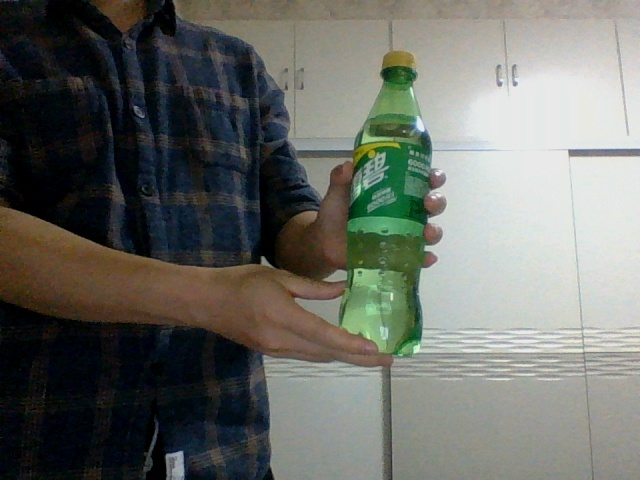Sprite: (337, 49, 430, 355)
